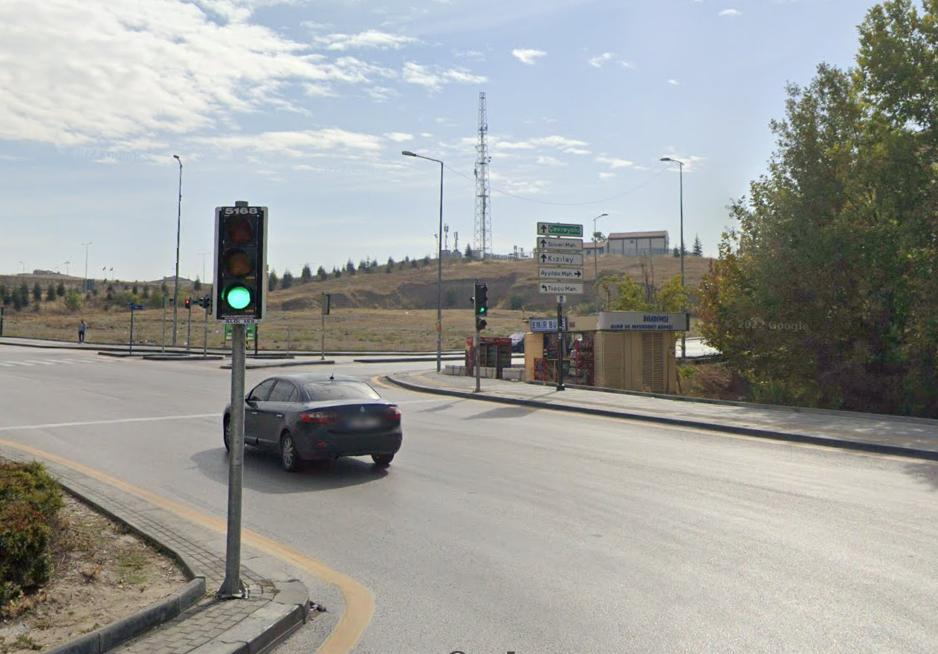greenlight: (216, 207, 262, 313)
